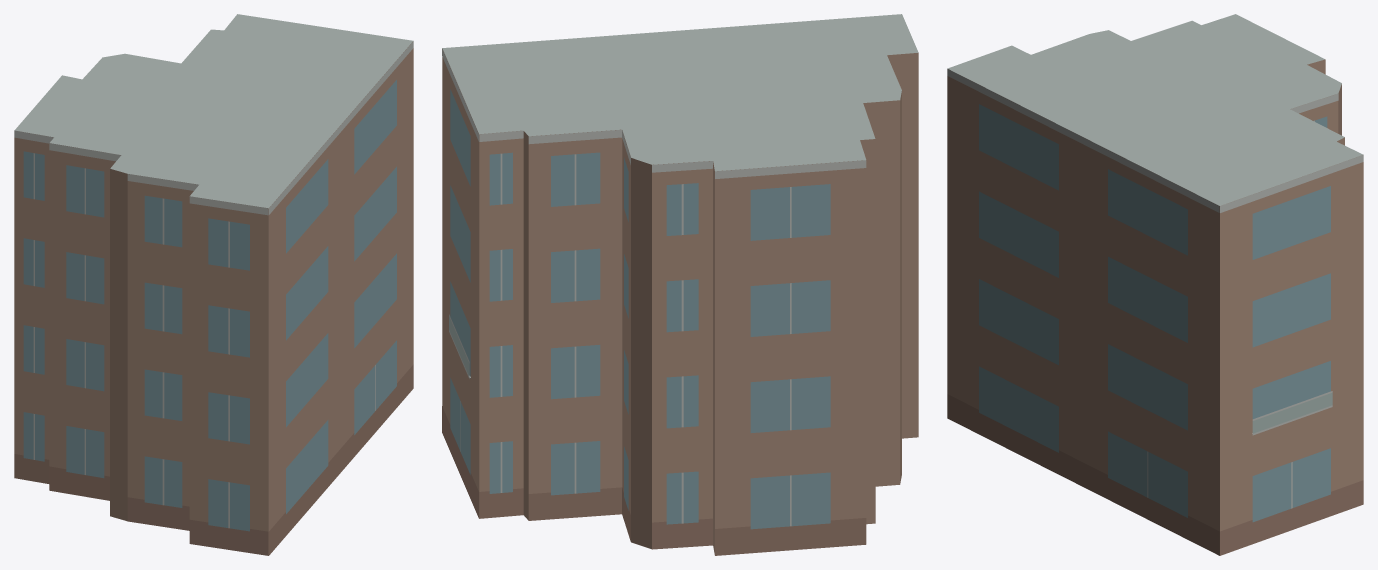
Rendered from survey-upis-32962155.glb.
The picture shows the model from 3 angles, left to right: view 1: azimuth 30°, elevation 25°; view 2: azimuth 150°, elevation 25°; view 3: azimuth 270°, elevation 25°; orthographic projection. The views are drawn at different scales.
Parts seen in each view (by area): view 1: survey-upis-32962155.tmp; view 2: survey-upis-32962155.tmp; view 3: survey-upis-32962155.tmp.
Boxes of the visible parts, bbox=[...] form: survey-upis-32962155.tmp: bbox=[14, 14, 413, 555]; survey-upis-32962155.tmp: bbox=[442, 14, 918, 555]; survey-upis-32962155.tmp: bbox=[947, 14, 1363, 555].
Bounding box in the file's own units: 13.99 × 11.87 × 12.81.
